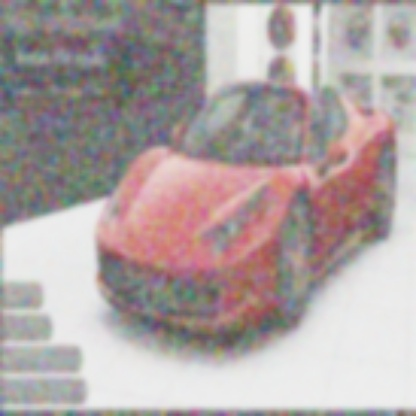Vehicle: (88, 89, 398, 311)
